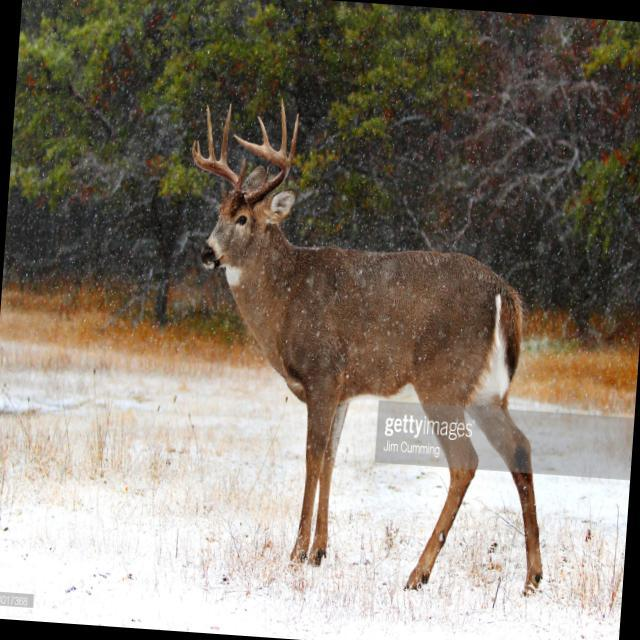E1: (196, 139, 201, 155)
L-F: (233, 133, 289, 207)
L-G1: (262, 166, 269, 183)
L-G2: (287, 112, 299, 171)
L-G3: (279, 98, 287, 156)
L-G4: (257, 115, 272, 147)
R-G1: (238, 157, 245, 185)
R-G2: (219, 102, 231, 165)
R-G3: (206, 104, 216, 160)
